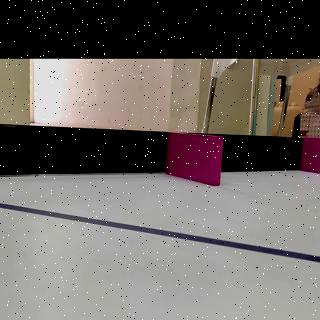xparking: (172, 134, 222, 180), (305, 138, 320, 171)
